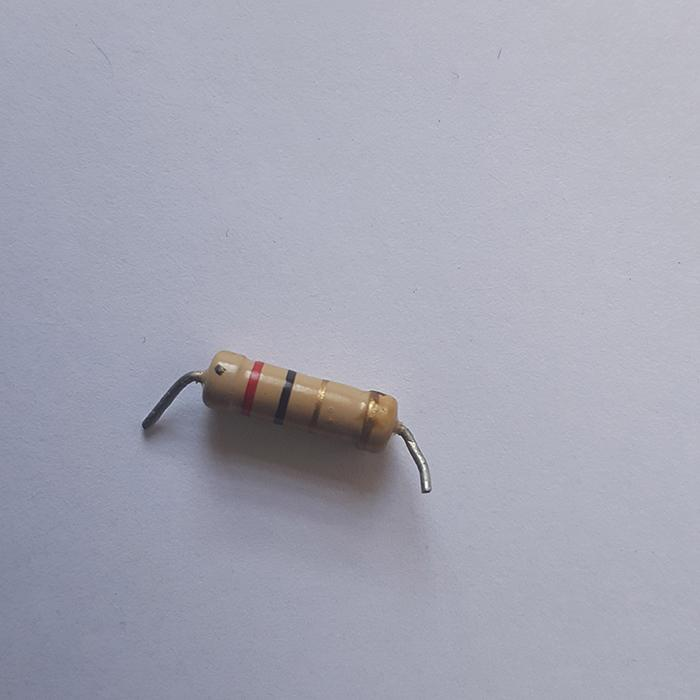resistor: (200, 348, 399, 464)
